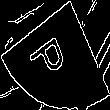P_NE: (32, 26, 78, 84)
